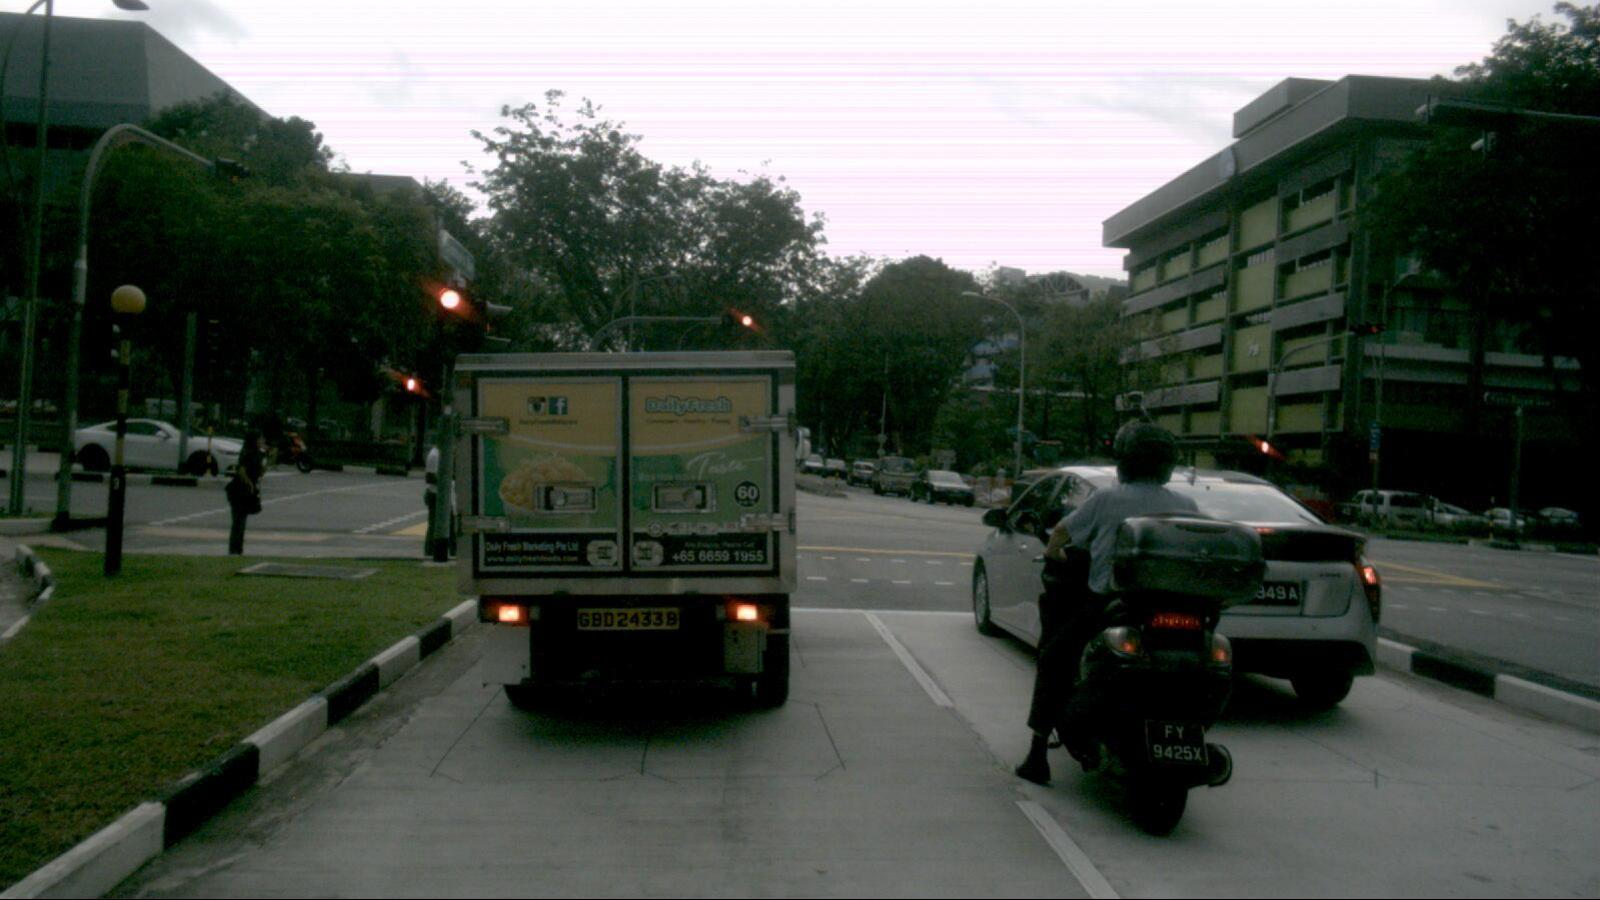human.pedestrian.adult-pedestrian.moving: (421, 433, 457, 561)
human.pedestrian.adult-pedestrian.standing: (225, 429, 270, 557)
vehicle.motorcycle-cycle.with_rider: (1013, 418, 1268, 836), (242, 408, 320, 477)
